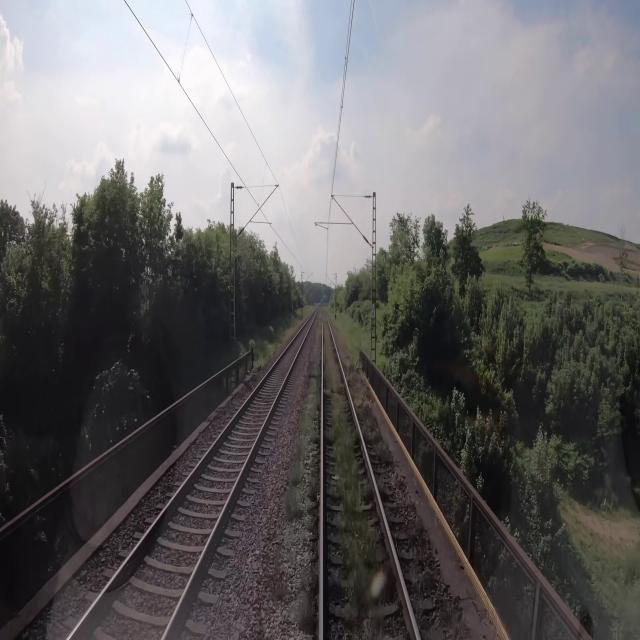Plant: (341, 326, 474, 639), (323, 312, 391, 634), (272, 311, 321, 528), (291, 564, 313, 636)
